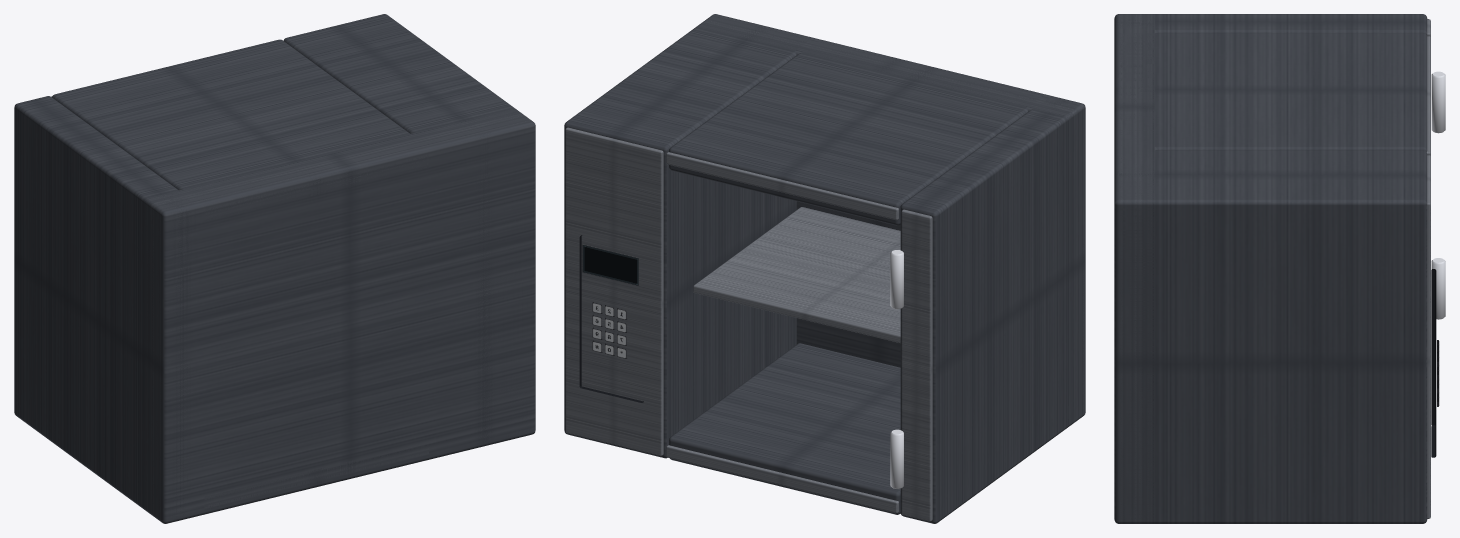
File: WallSafe.obj
3 renders of one model, left to right at view 1: azimuth 30°, elevation 25°; view 2: azimuth 150°, elevation 25°; view 3: azimuth 270°, elevation 25°, orthographic. The views are drawn at different scales.
Bounding box in the file's own units: 1 × 0.8 × 0.7406.
Materials: 8 (5 with a texture image).
